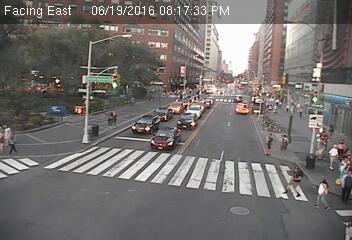neg: (48, 175, 69, 203), (146, 166, 165, 192), (57, 133, 75, 157), (194, 115, 212, 138), (88, 55, 105, 77), (148, 120, 164, 141), (142, 63, 157, 84), (63, 62, 78, 81), (183, 183, 197, 202), (218, 19, 230, 36), (57, 105, 69, 121), (258, 46, 269, 61), (164, 25, 175, 40), (236, 80, 244, 90), (290, 34, 298, 44)
pos: (309, 175, 337, 212), (283, 161, 309, 196), (259, 130, 281, 160), (276, 129, 294, 153), (105, 105, 123, 128), (325, 142, 341, 164), (336, 135, 350, 154), (325, 121, 337, 138), (297, 105, 307, 118)
